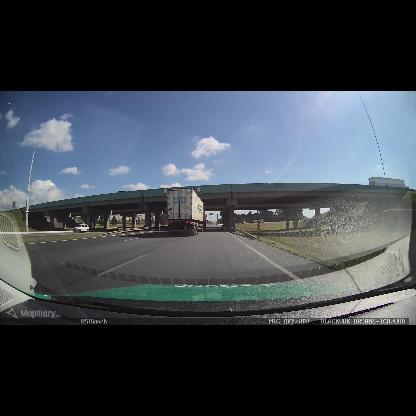O-MP: (257, 221, 261, 234)
R-15: (196, 187, 202, 192)
